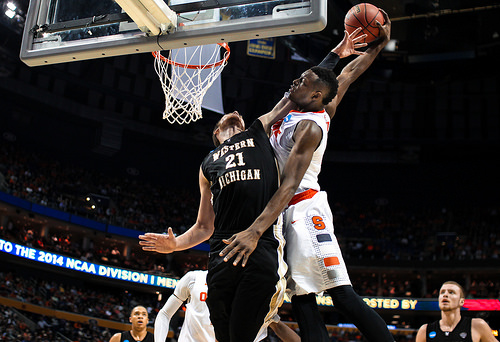Basketball: (341, 2, 385, 45)
